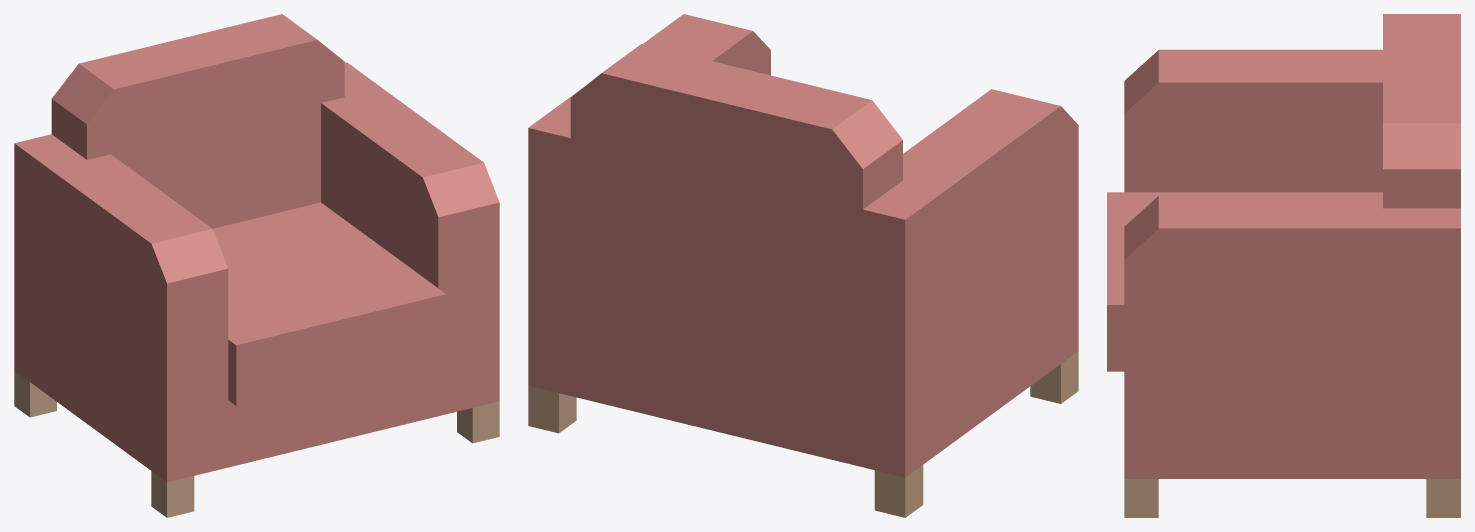
The model's file is loungeChair.glb.
3 renders of one model, left to right at view 1: azimuth 30°, elevation 25°; view 2: azimuth 150°, elevation 25°; view 3: azimuth 270°, elevation 25°, orthographic. The views are drawn at different scales.
Parts seen in each view (by area): view 1: loungeChair(Clone); view 2: loungeChair(Clone); view 3: loungeChair(Clone).
Boxes of the visible parts, x1=… form: loungeChair(Clone): x1=14, y1=14, x2=499, y2=517; loungeChair(Clone): x1=528, y1=14, x2=1078, y2=517; loungeChair(Clone): x1=1107, y1=14, x2=1460, y2=517.
Size of the model in its own units: 0.49 by 0.46 by 0.41.
